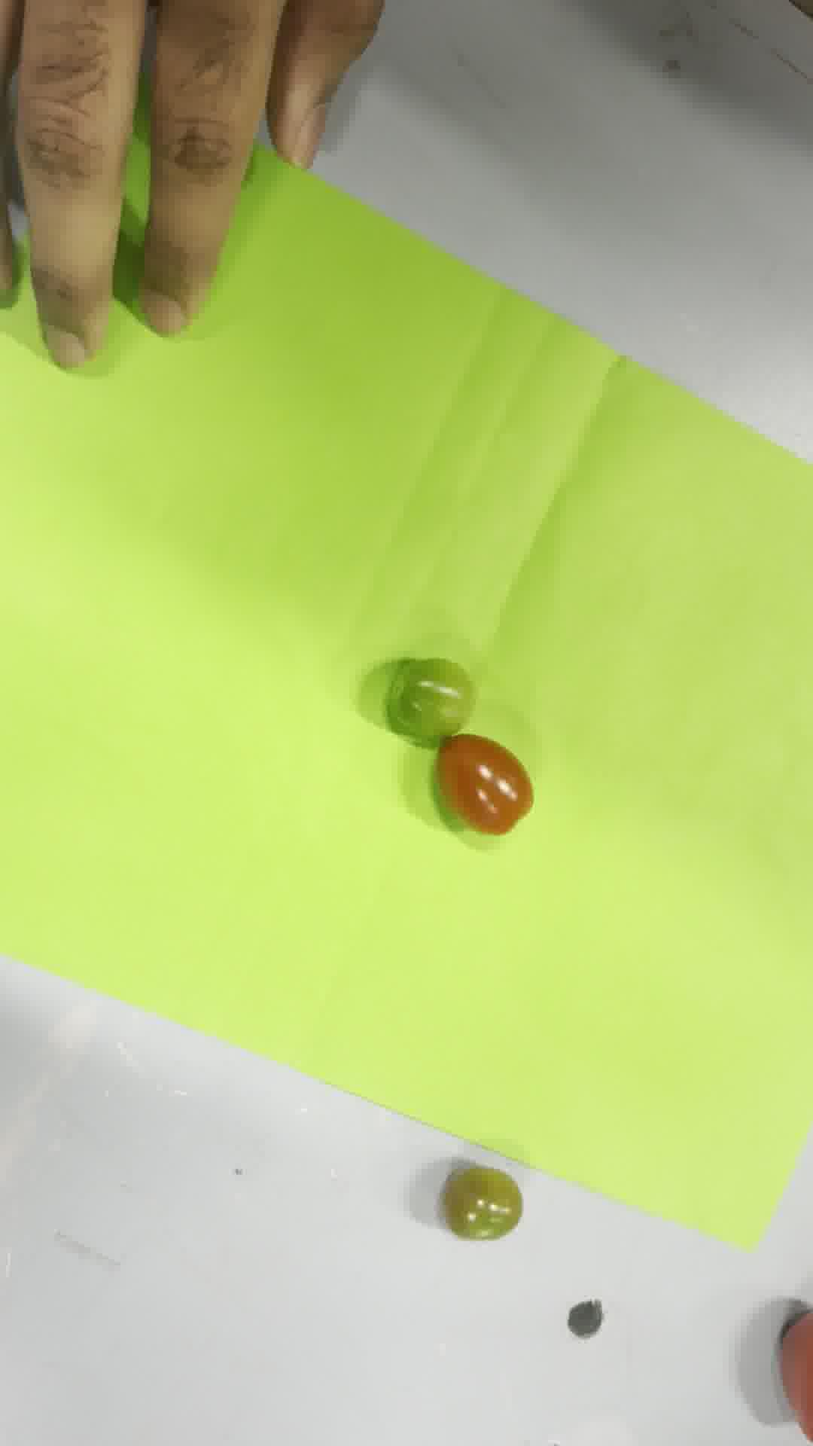green_cherry_tomato: (387, 658, 474, 746)
red_cherry_tomato: (435, 734, 533, 835)
yellow_cherry_tomato: (440, 1164, 522, 1241)
